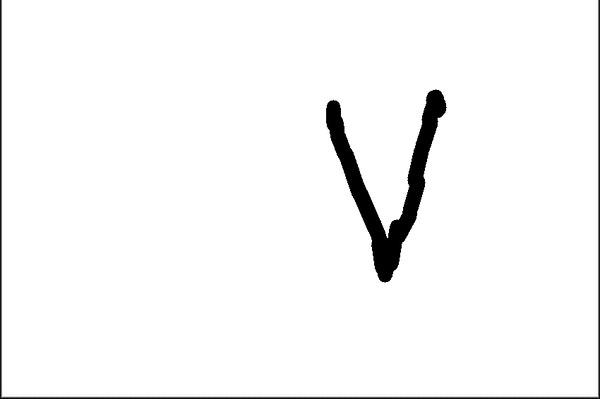V: (312, 77, 459, 289)
